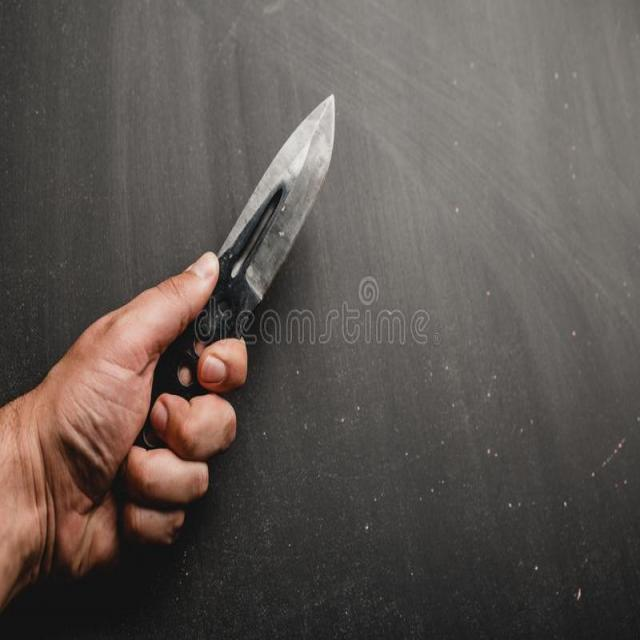knife: (164, 64, 353, 455)
